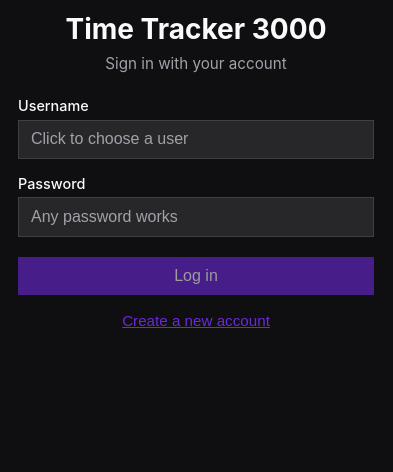
LoginPage › Create account shows error when username taken
This screenshot has width=393, height=472.
Click the button "Create a new account": click(196, 321) [122,312,270,329]
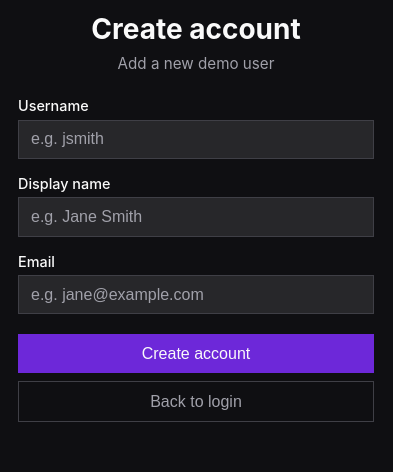
In the field with placeholder "e.g. jsmith": (196, 139) [18,120,374,159], type "taken"
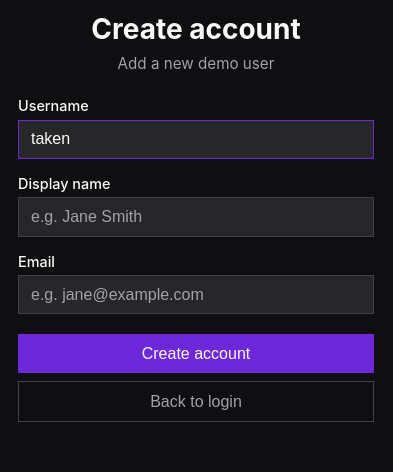
In the field with placeholder "e.g. Jane Smith": (196, 217) [18,197,374,237], type "Taken User"
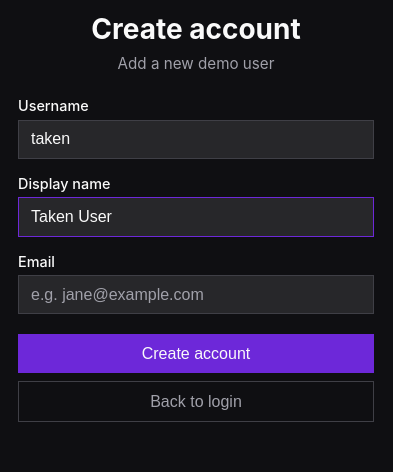
Click the button "Create account": click(196, 354) [18,334,374,373]
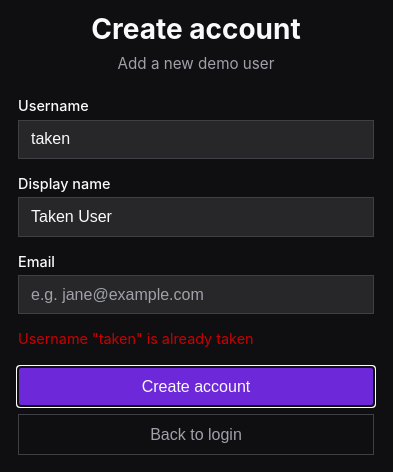
Expected: the message shows "already taken", [18,330,254,347]
